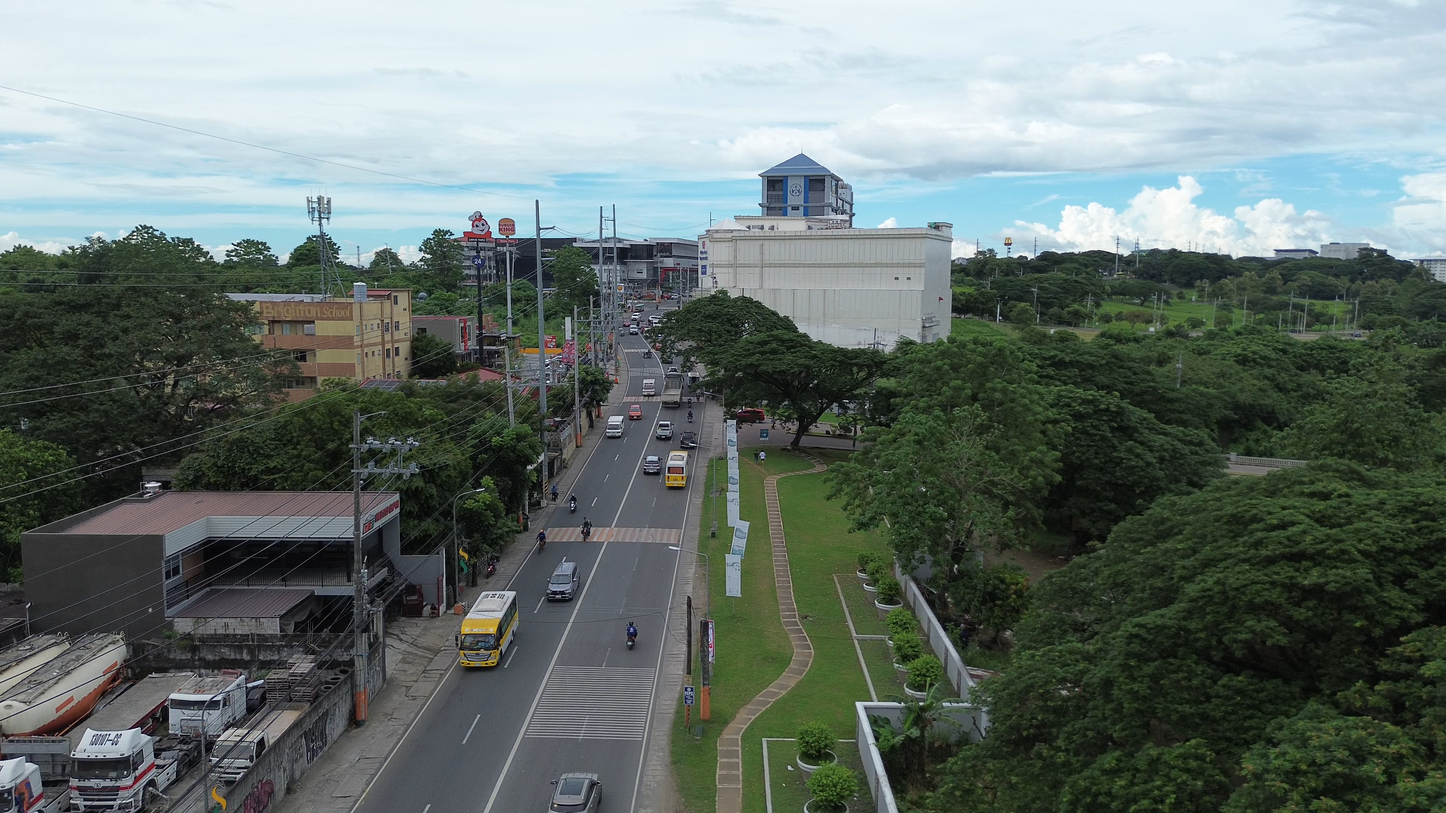bus: (664, 451, 688, 487)
car: (628, 404, 641, 420), (629, 324, 639, 335), (667, 366, 680, 374)
motorcycle: (485, 554, 498, 578), (626, 624, 637, 649), (570, 496, 577, 513)
truck: (69, 728, 198, 811), (0, 756, 70, 813), (660, 373, 683, 406)
vehicle: (0, 633, 126, 736), (69, 728, 181, 811), (209, 703, 306, 784), (168, 670, 246, 738), (457, 591, 518, 666), (0, 634, 71, 694), (0, 756, 70, 813), (548, 773, 601, 813), (546, 559, 578, 601), (735, 408, 766, 423), (605, 415, 624, 437), (642, 455, 660, 475), (656, 421, 673, 440), (680, 431, 697, 449), (642, 378, 656, 396), (570, 495, 577, 513), (667, 366, 680, 375)
